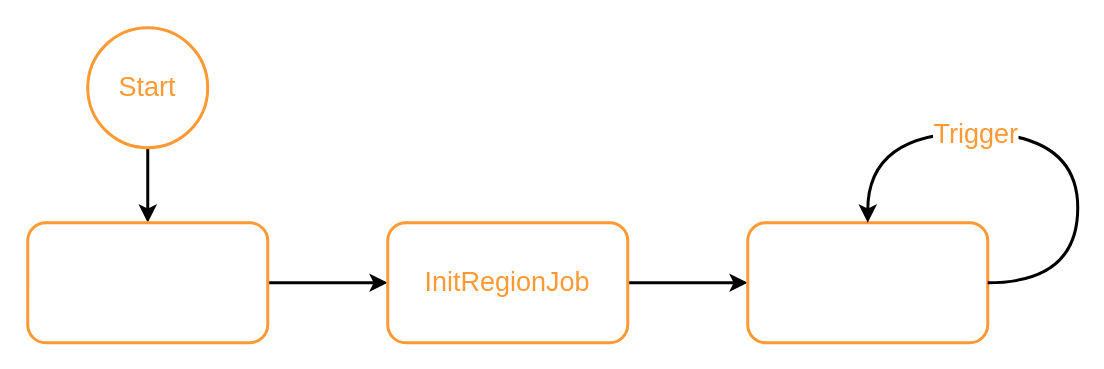
Some shapes in this 1104 by 369 pixel diagram are drawn without their labels. Each missing label, with the box of its shape:
AdditionJob: (746, 220, 988, 344)
InitStatJob: (26, 220, 268, 344)
